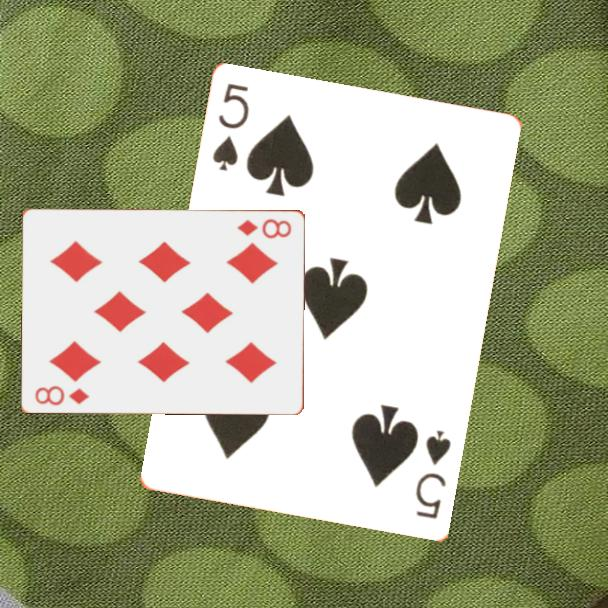d08: (32, 382, 93, 408), (234, 215, 294, 241)
s05: (209, 80, 253, 175), (412, 427, 454, 523)
